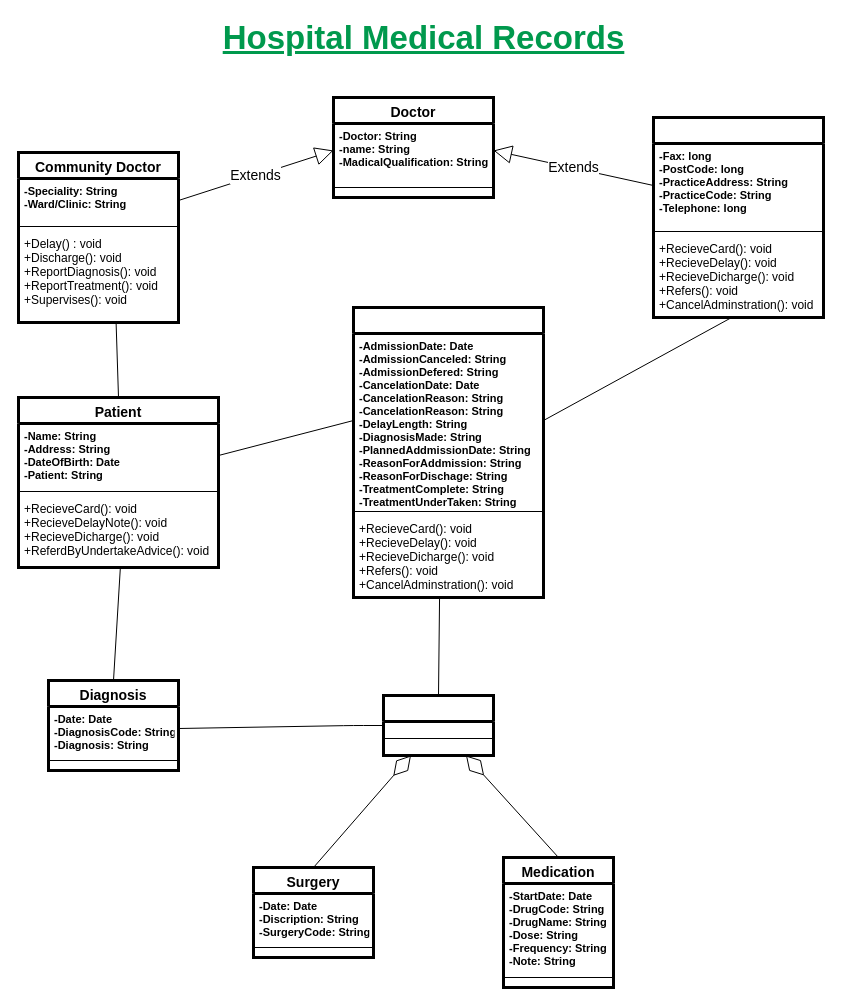
Image size: 842x1006. Some labels were removed from this diagram. The shapes that lost their labels are listed below. From the top down, each one's box as (x1, y1, x2, y2) in pixels, then its label:
(652, 116, 824, 318): Hospital Doctor
(352, 306, 544, 598): Admission Episode
(382, 694, 494, 756): Treatment
